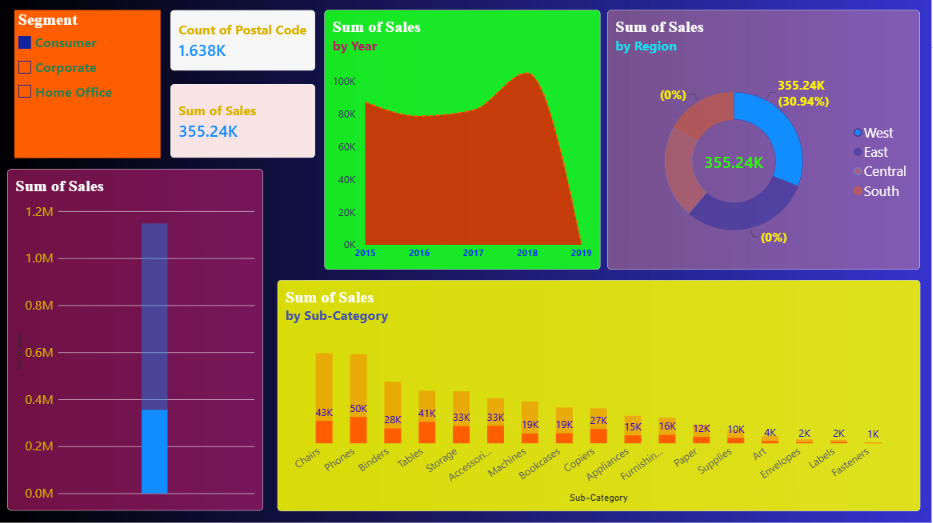

This screenshot's page, from the dashboard's own definition file:
{"tool":"powerbi","page":{"name":"Page 1","canvas":[1920,1080],"ordinal":0},"visuals":[{"type":"cardVisual","fields":{"Data":["Sum(train.Sales)"]},"box":[354,172.9,298.5,152.3],"z":0},{"type":"cardVisual","fields":{"Data":["CountNonNull(train.Postal Code)"]},"box":[354,20.6,298.5,125.6],"z":1},{"type":"clusteredColumnChart","fields":{"Y":["Sum(train.Sales)"]},"box":[18.8,348.6,526,703.5],"z":2},{"type":"donutChart","fields":{"Category":["train.Region"],"Y":["Sum(train.Sales)"]},"box":[1254.5,20.9,642.9,534.4],"z":3},{"type":"slicer","fields":{"Values":["train.Segment"]},"box":[32.9,20.6,300.5,304.6],"z":4},{"type":"clusteredColumnChart","fields":{"Category":["train.Sub-Category"],"Y":["Sum(train.Sales)"]},"box":[574,576.1,1323.4,475.9],"z":5},{"type":"stackedAreaChart","fields":{"Category":["train.Ship Date.Variation.Date Hierarchy.Year","train.Ship Date.Variation.Date Hierarchy.Quarter","train.Ship Date.Variation.Date Hierarchy.Month","train.Ship Date.Variation.Date Hierarchy.Day"],"Y":["Sum(train.Sales)"]},"box":[670.1,20.9,567.8,534.4],"z":6}]}

Visuals, with their boxes in screenshot pixels (x1, y1, x2, y2), scaled from the page's 1920x1080 canvas onto the 933x523 screenshot:
cardVisual - Sum(train.Sales): {"x1": 172, "y1": 84, "x2": 317, "y2": 157}
cardVisual - CountNonNull(train.Postal Code): {"x1": 172, "y1": 10, "x2": 317, "y2": 71}
clusteredColumnChart - Sum(train.Sales): {"x1": 9, "y1": 169, "x2": 265, "y2": 509}
donutChart - train.Region x Sum(train.Sales): {"x1": 610, "y1": 10, "x2": 922, "y2": 269}
slicer - train.Segment: {"x1": 16, "y1": 10, "x2": 162, "y2": 157}
clusteredColumnChart - train.Sub-Category x Sum(train.Sales): {"x1": 279, "y1": 279, "x2": 922, "y2": 509}
stackedAreaChart - train.Ship Date.Variation.Date Hierarchy.Year x train.Ship Date.Variation.Date Hierarchy.Quarter: {"x1": 326, "y1": 10, "x2": 602, "y2": 269}
